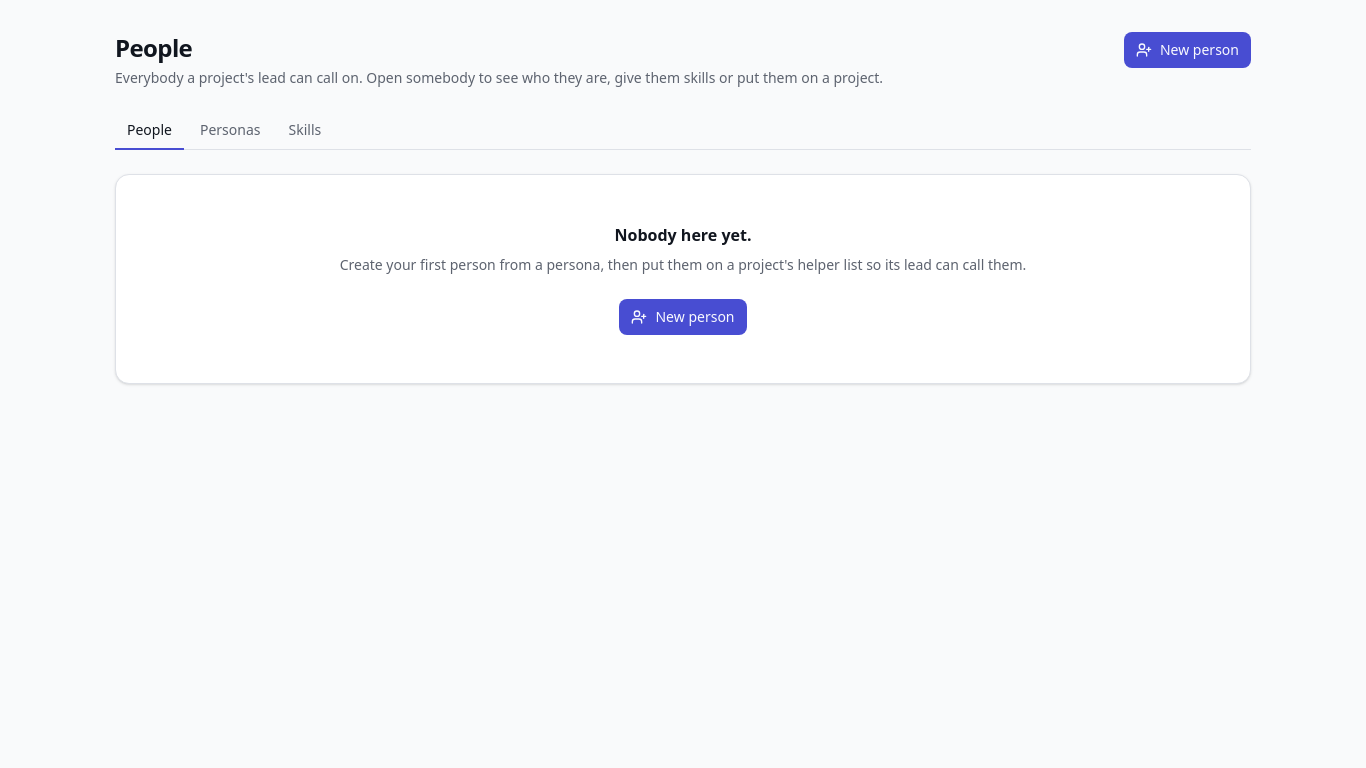
Test case: People: the list › says nobody is here yet and offers the first person
Expected: the element with test id "people-empty" shows "Create your first person", [340,255,1026,274]
Step 1. Click the button with test id "new-person" → (1188, 50), box [1124,32,1251,68]
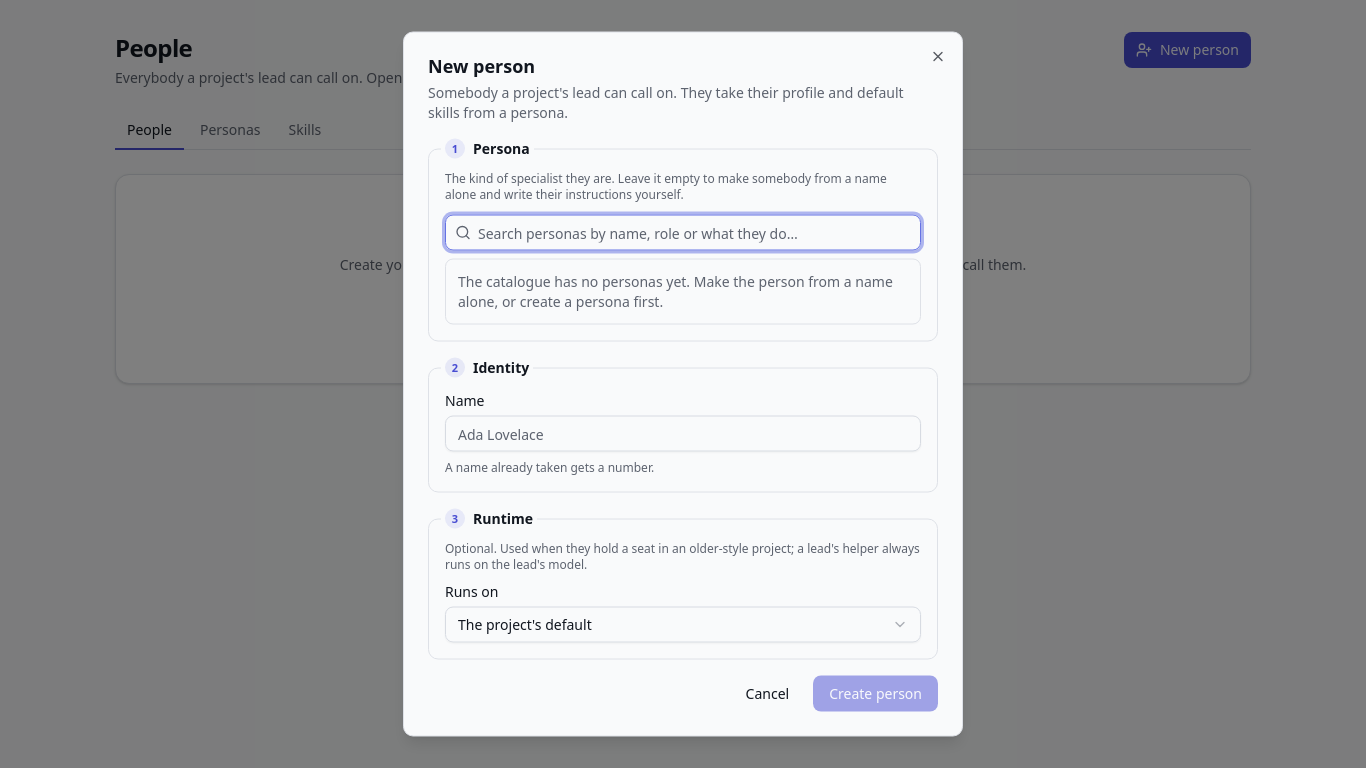
Expected: the dialog with test id "new-person-dialog" is shown, [403,32,963,736]
